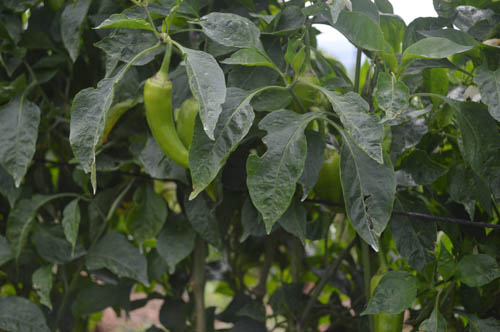ChiliPepper: (142, 81, 186, 169), (315, 154, 344, 211), (174, 101, 201, 137)
